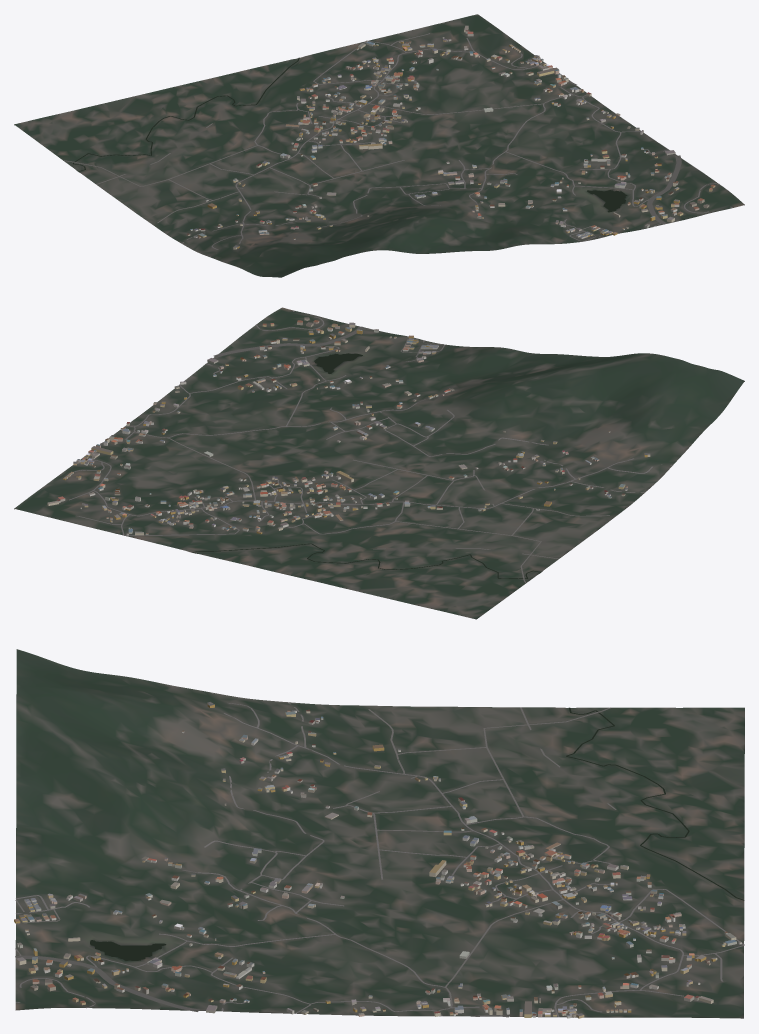
The picture shows the model from 3 angles, top to bottom: view 1: azimuth 30°, elevation 25°; view 2: azimuth 150°, elevation 25°; view 3: azimuth 270°, elevation 25°; orthographic projection. The views are drawn at different scales.
Visible parts, largest first — view 1: ground, buildings, roads, water; view 2: ground, buildings, roads, water; view 3: ground, buildings, roads, water.
Part boxes in pixels (bbox=[...]): ground: bbox=[14, 14, 744, 277]; buildings: bbox=[186, 25, 715, 249]; roads: bbox=[63, 33, 732, 256]; water: bbox=[72, 57, 627, 212]; ground: bbox=[14, 307, 744, 619]; buildings: bbox=[47, 317, 650, 535]; roads: bbox=[69, 310, 672, 583]; water: bbox=[192, 353, 540, 578]; ground: bbox=[15, 649, 744, 1018]; buildings: bbox=[14, 702, 741, 1018]; roads: bbox=[15, 692, 744, 1017]; water: bbox=[90, 707, 744, 960].
Size of the model in its own units: 1407 by 151 by 1407.
